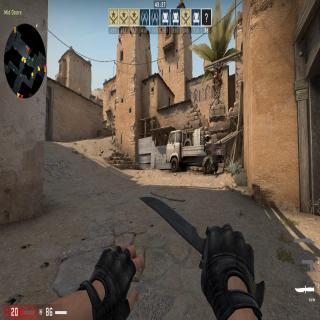CT-Body: (202, 134, 216, 176)
CT-Head: (205, 134, 210, 142)
